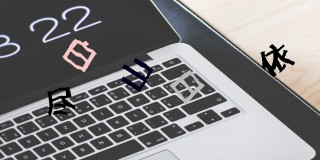依: (260, 43, 295, 78)
尽: (47, 86, 76, 116)
山: (121, 57, 154, 92)
日: (170, 68, 204, 103)
白: (61, 38, 97, 73)
